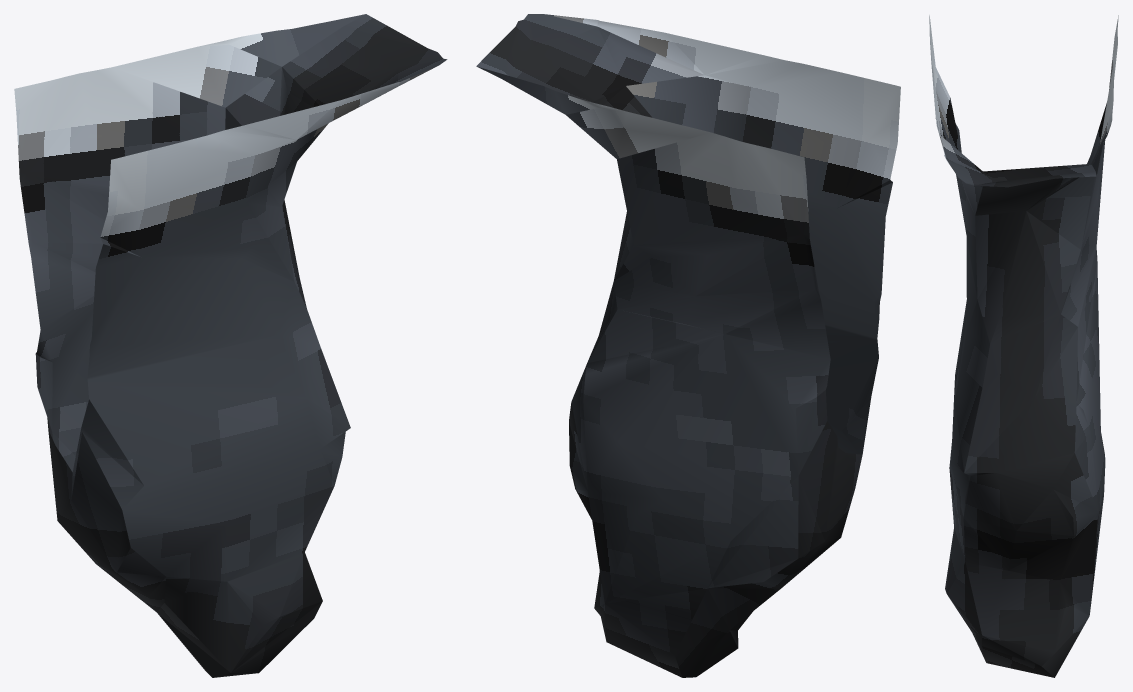
Rendered from cargador.glb.
The picture shows the model from 3 angles, left to right: view 1: azimuth 30°, elevation 25°; view 2: azimuth 150°, elevation 25°; view 3: azimuth 270°, elevation 25°; orthographic projection. The views are drawn at different scales.
Parts seen in each view (by area): view 1: geometry_0; view 2: geometry_0; view 3: geometry_0.
Part boxes in pixels (x1,y1,x2,y2): geometry_0: [14, 14, 447, 677]; geometry_0: [476, 14, 900, 677]; geometry_0: [929, 15, 1118, 677].
Size of the model in its own units: 0.13 by 0.2057 by 0.0614.
1 material, 1 textured.
